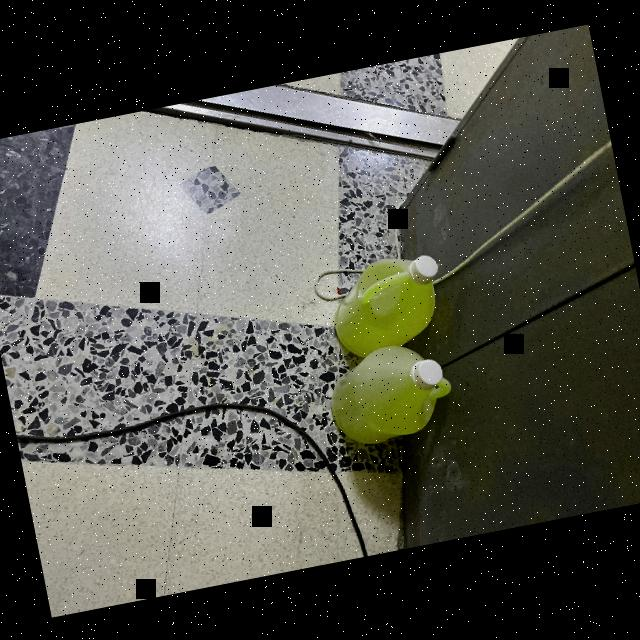chemical_plastic_gallon: (314, 234, 467, 368), (314, 333, 476, 451)
